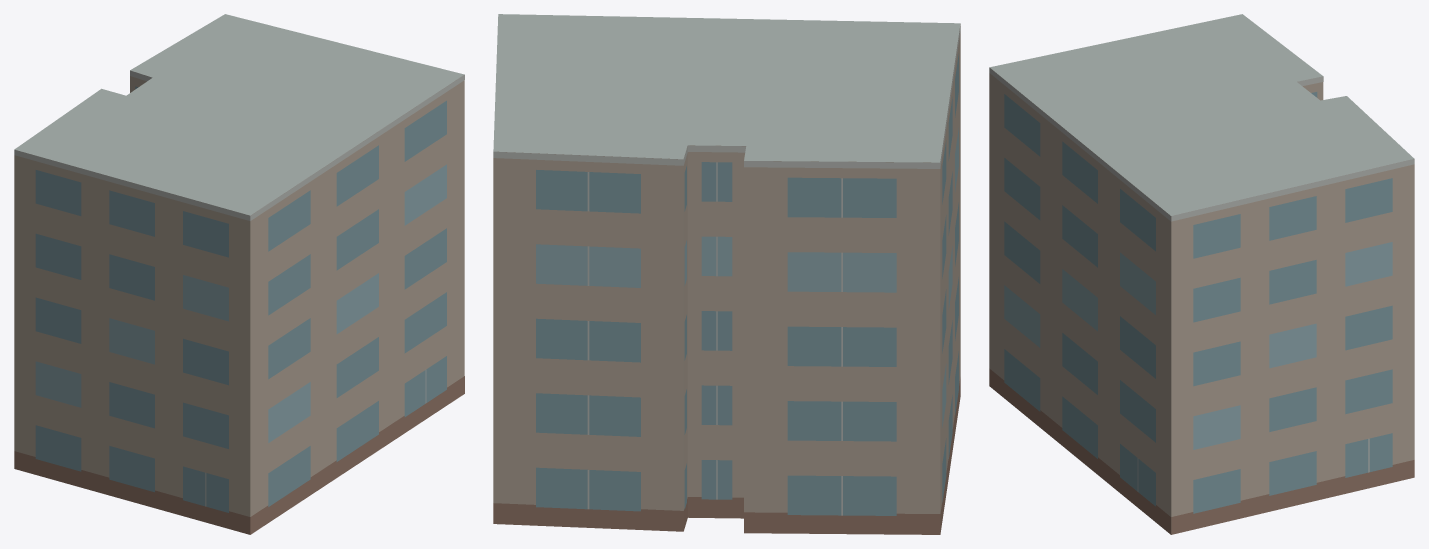
The model's file is survey-upis-32834137.glb.
3 renders of one model, left to right at view 1: azimuth 30°, elevation 25°; view 2: azimuth 150°, elevation 25°; view 3: azimuth 270°, elevation 25°, orthographic. The views are drawn at different scales.
Visible parts, largest first — view 1: survey-upis-32834137.tmp; view 2: survey-upis-32834137.tmp; view 3: survey-upis-32834137.tmp.
Boxes of the visible parts, bbox=[...] form: survey-upis-32834137.tmp: bbox=[14, 14, 464, 534]; survey-upis-32834137.tmp: bbox=[493, 14, 960, 534]; survey-upis-32834137.tmp: bbox=[989, 14, 1414, 534].
Bounding box in the file's own units: 19.04 × 14 × 16.93.
